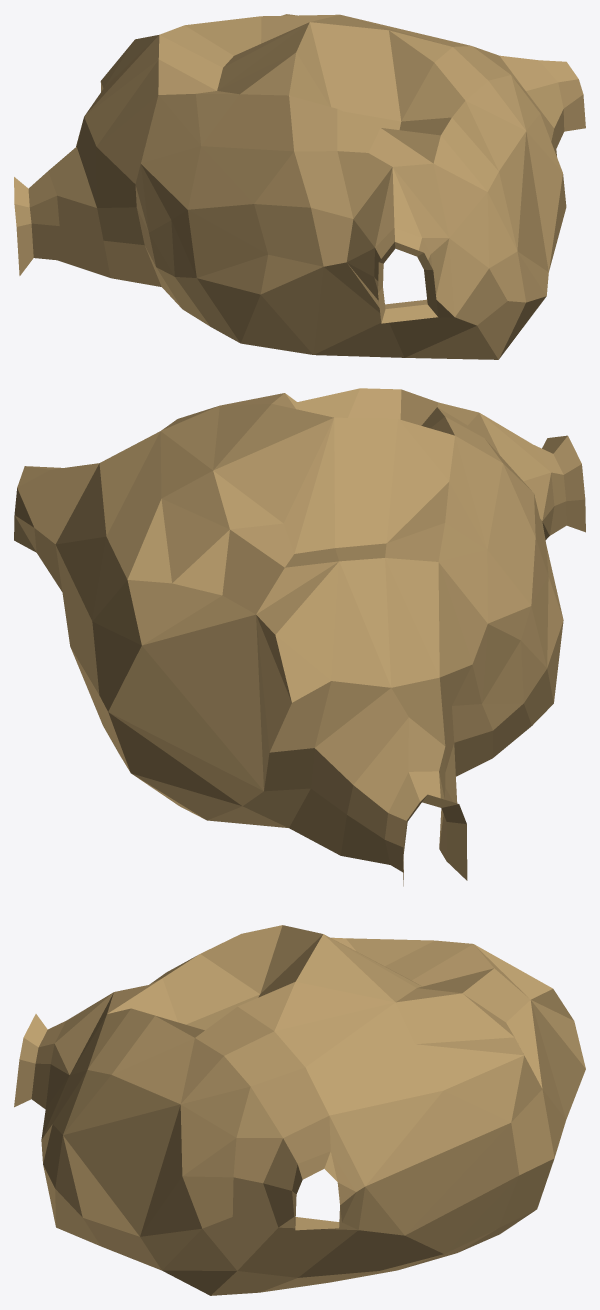
The model's file is Dome-3exits-01.fbx.
The picture shows the model from 3 angles, top to bottom: view 1: azimuth 30°, elevation 25°; view 2: azimuth 150°, elevation 25°; view 3: azimuth 270°, elevation 25°; orthographic projection. The views are drawn at different scales.
Visible parts, largest first — view 1: Dome-3exits-01; view 2: Dome-3exits-01; view 3: Dome-3exits-01.
Part boxes in pixels (bbox=[...]): Dome-3exits-01: bbox=[14, 14, 585, 359]; Dome-3exits-01: bbox=[14, 388, 585, 886]; Dome-3exits-01: bbox=[14, 925, 585, 1295].
Size of the model in its own units: 2309 by 2225 by 1257.
